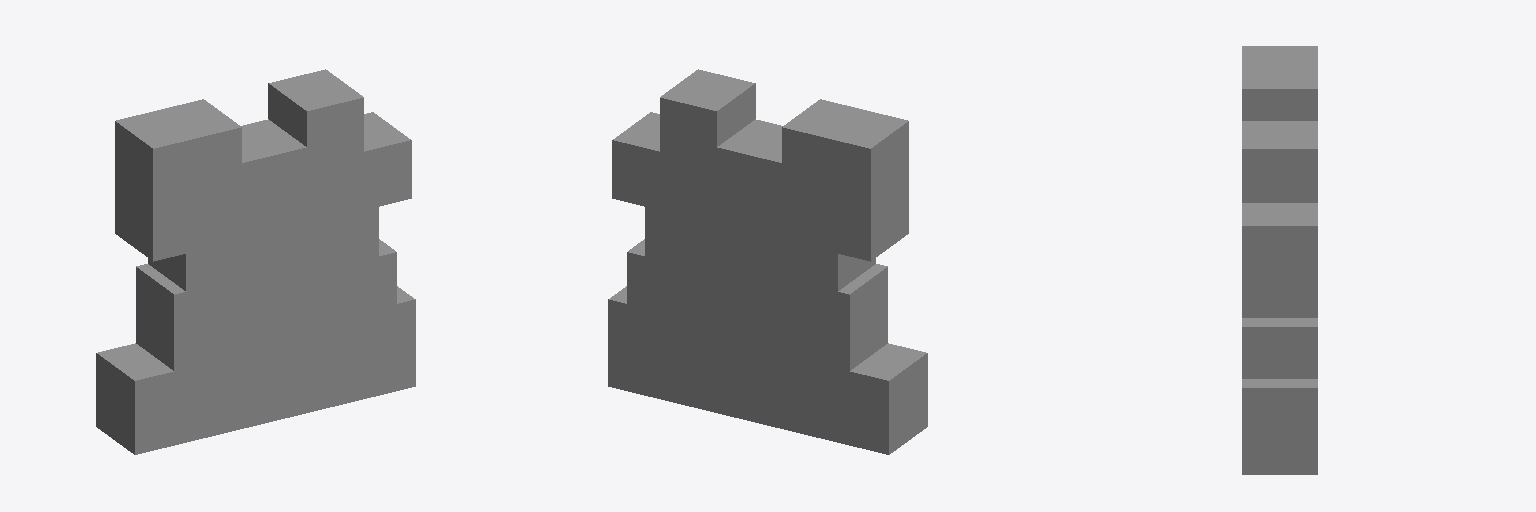
The picture shows the model from 3 angles: view 1: azimuth 30°, elevation 25°; view 2: azimuth 150°, elevation 25°; view 3: azimuth 270°, elevation 25°; orthographic projection.
Parts seen in each view (by area): view 1: s4studio_mesh_1; view 2: s4studio_mesh_1; view 3: s4studio_mesh_1.
Boxes of the visible parts, x1=… form: s4studio_mesh_1: x1=96, y1=69, x2=415, y2=454; s4studio_mesh_1: x1=608, y1=69, x2=927, y2=454; s4studio_mesh_1: x1=1242, y1=46, x2=1317, y2=474.
Bounding box in the file's own units: 0.4501 × 0.4625 × 0.1068.